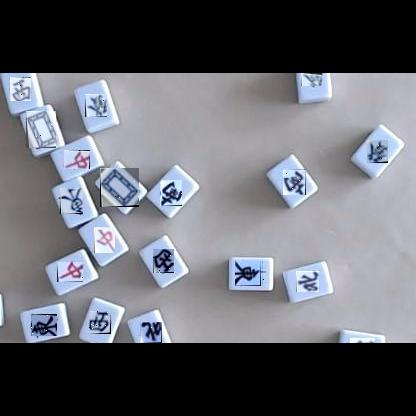1z: (236, 260, 266, 286), (60, 188, 83, 214), (31, 314, 57, 336)
2z: (283, 169, 306, 195), (160, 180, 182, 206)
3z: (89, 311, 111, 334), (10, 77, 31, 101), (153, 249, 174, 273)
4z: (296, 271, 319, 292), (140, 322, 162, 343), (350, 338, 375, 343)
5z: (100, 168, 139, 207), (26, 111, 56, 148)
6z: (85, 94, 107, 117), (367, 140, 388, 163), (301, 73, 322, 86)
7z: (94, 227, 115, 253), (57, 262, 83, 282), (64, 150, 90, 169)
